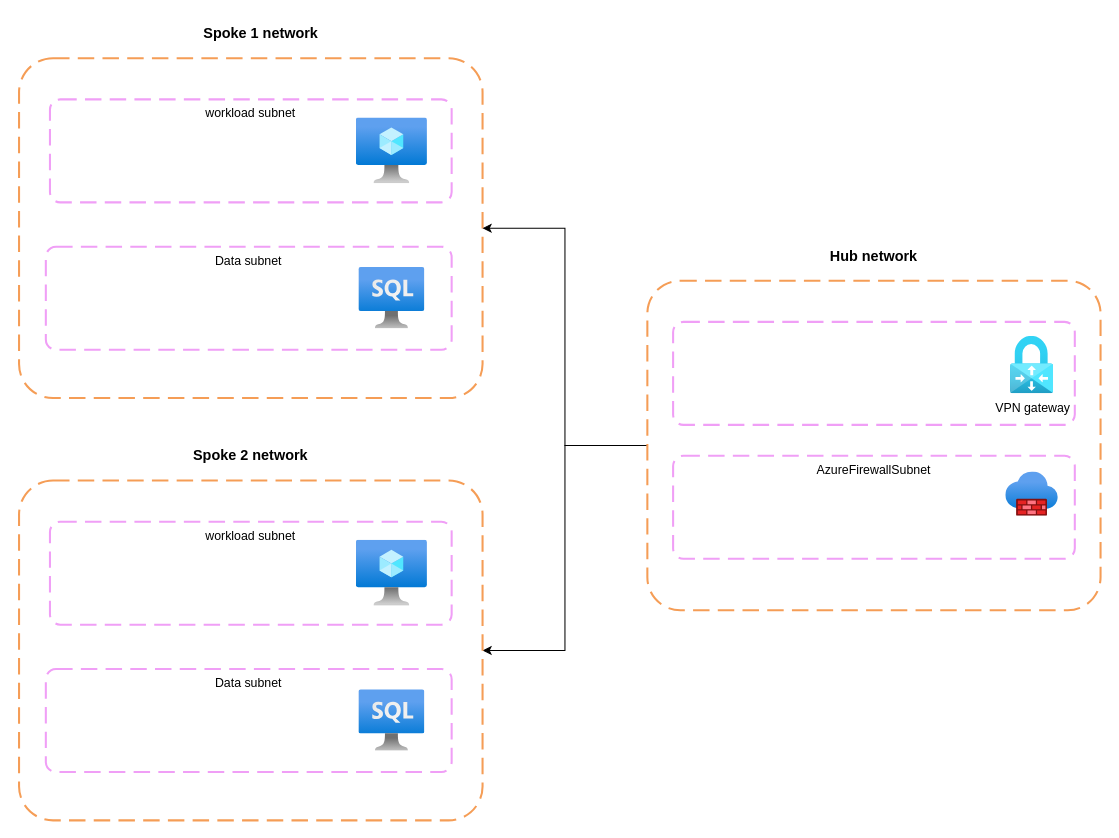
This 1119x838 diagram has some shape labels left out. Each missing label, with the box of its shape:
Firewall: (1005, 471, 1058, 516)
GatewaySubnet: (672, 320, 1075, 425)
